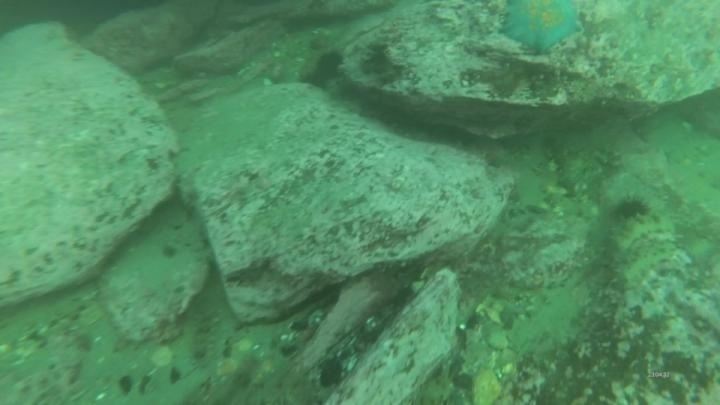echinus: (611, 193, 651, 224), (312, 48, 346, 82)
holothurian: (616, 238, 678, 298), (608, 209, 677, 255)
starfish: (498, 1, 584, 56)
